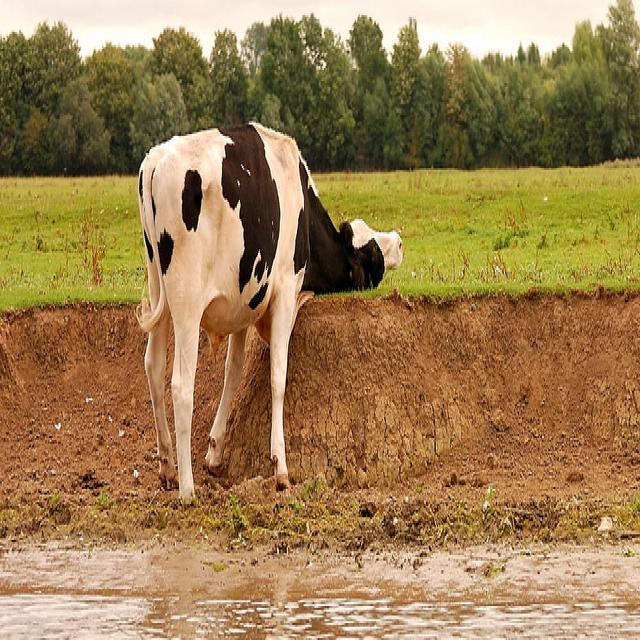cow: (132, 121, 403, 506)
